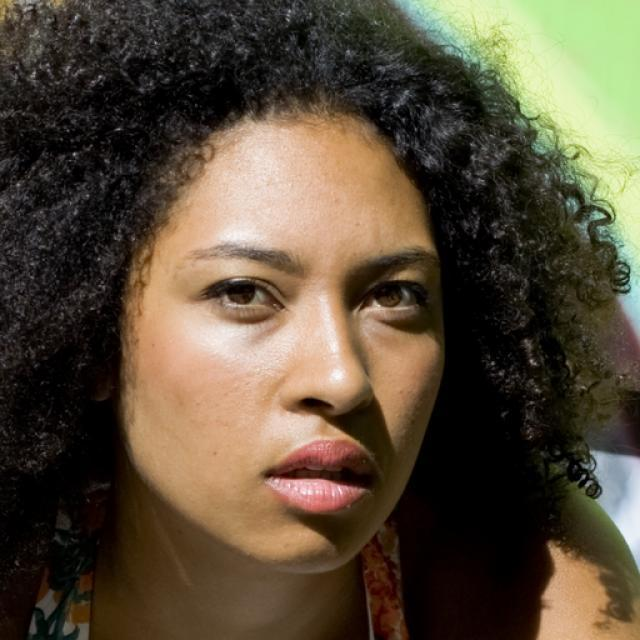neutral: (120, 107, 449, 574)
